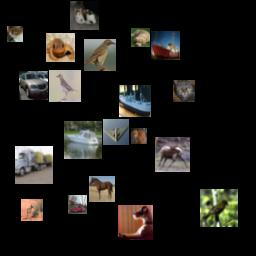airplane: (103, 119, 129, 145)
automobile: (19, 71, 48, 100), (68, 195, 87, 214)
bird: (200, 189, 238, 227), (84, 39, 116, 71), (49, 70, 81, 102)
cat: (70, 1, 99, 30), (173, 80, 195, 102), (7, 26, 23, 42), (131, 128, 147, 144)
deer: (155, 137, 190, 172), (21, 199, 43, 221)
dog: (118, 205, 153, 240), (131, 28, 150, 47)
frog: (46, 33, 75, 62)
ship: (64, 121, 102, 159), (119, 85, 151, 117), (151, 31, 180, 60)
truck: (15, 146, 53, 184)
